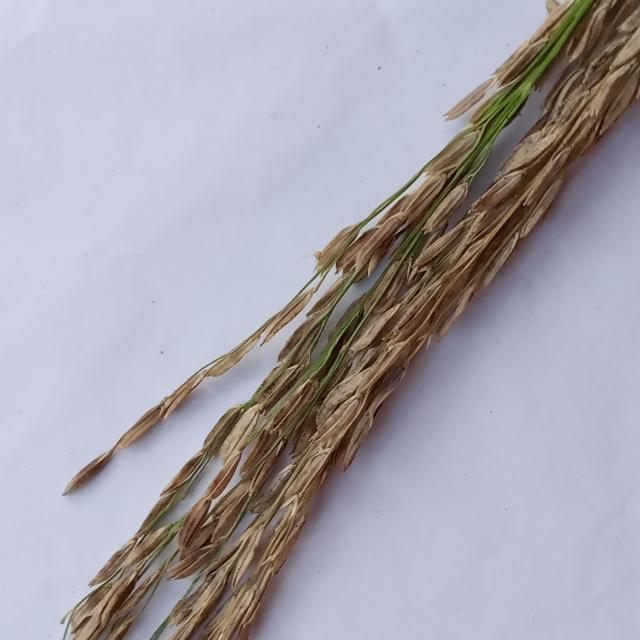Neck_Blast: (154, 8, 640, 640), (73, 127, 466, 640), (62, 215, 366, 493), (177, 341, 367, 576)
